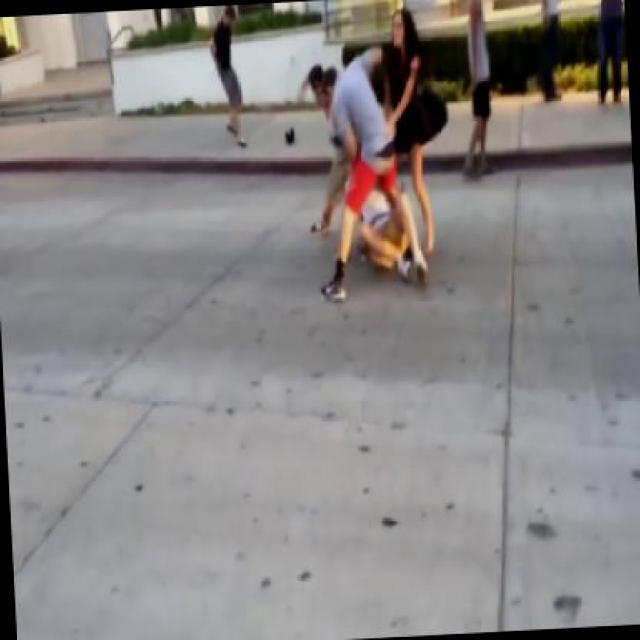fight: (303, 39, 405, 292)
non-fight: (383, 0, 443, 251), (207, 4, 256, 161)
